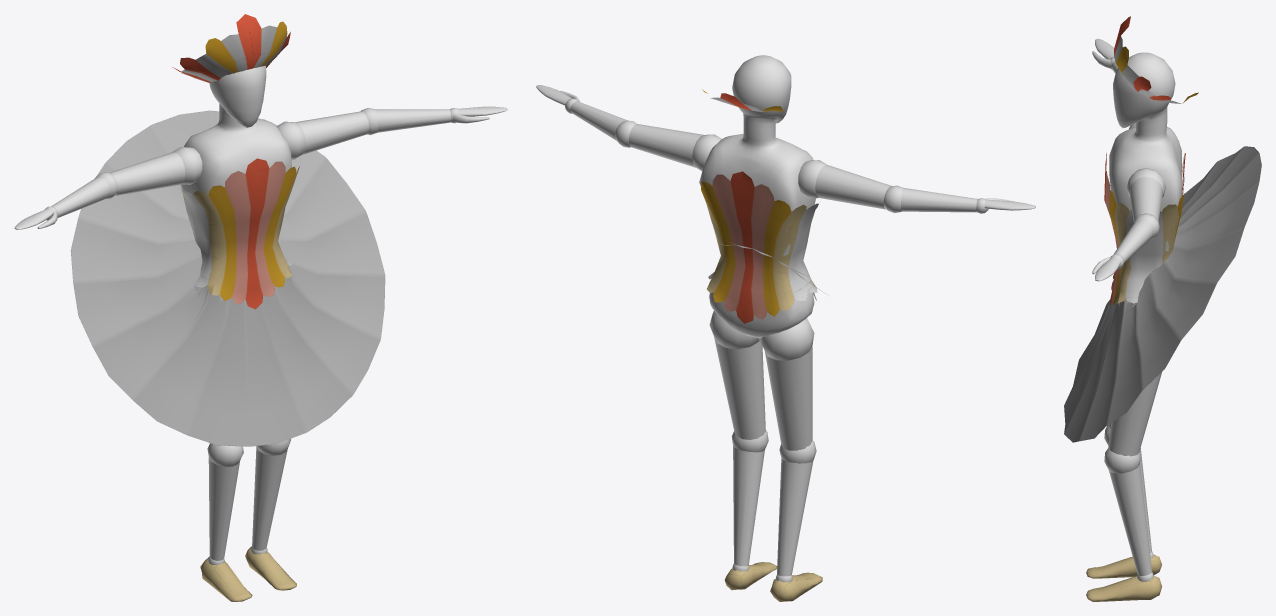
File: Custom003.gltf
3 renders of one model, left to right at view 1: azimuth 30°, elevation 25°; view 2: azimuth 150°, elevation 25°; view 3: azimuth 270°, elevation 25°, orthographic.
Parts seen in each view (by area): view 1: Lower, Body03, Upper_2, Upper, Shoe2, Shoe1; view 2: Body03, Upper_2, Shoe2, Shoe1; view 3: Lower, Body03, Upper_2, Shoe1, Upper, Shoe2.
Boxes of the visible parts, x1,y1,x2,y2 form: Lower: (70, 110, 385, 446); Body03: (14, 65, 507, 565); Upper_2: (179, 158, 299, 309); Upper: (172, 14, 290, 82); Shoe2: (200, 557, 252, 601); Shoe1: (245, 546, 296, 590); Body03: (536, 55, 1035, 582); Upper_2: (701, 171, 818, 323); Shoe2: (770, 572, 822, 601); Shoe1: (724, 562, 777, 590); Lower: (1064, 146, 1261, 442); Body03: (1092, 38, 1182, 581); Upper_2: (1104, 153, 1185, 305); Shoe1: (1086, 575, 1161, 601); Upper: (1114, 16, 1198, 103); Shoe2: (1086, 554, 1161, 578).
Size of the model in its own units: 4.34 by 4.77 by 1.5.
Materials: 2 (1 with a texture image).
